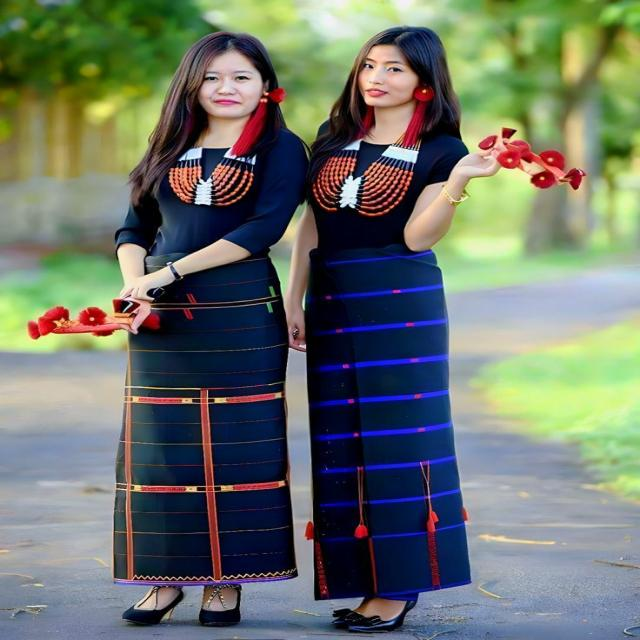female-dress: (141, 120, 314, 592), (300, 126, 476, 580)
